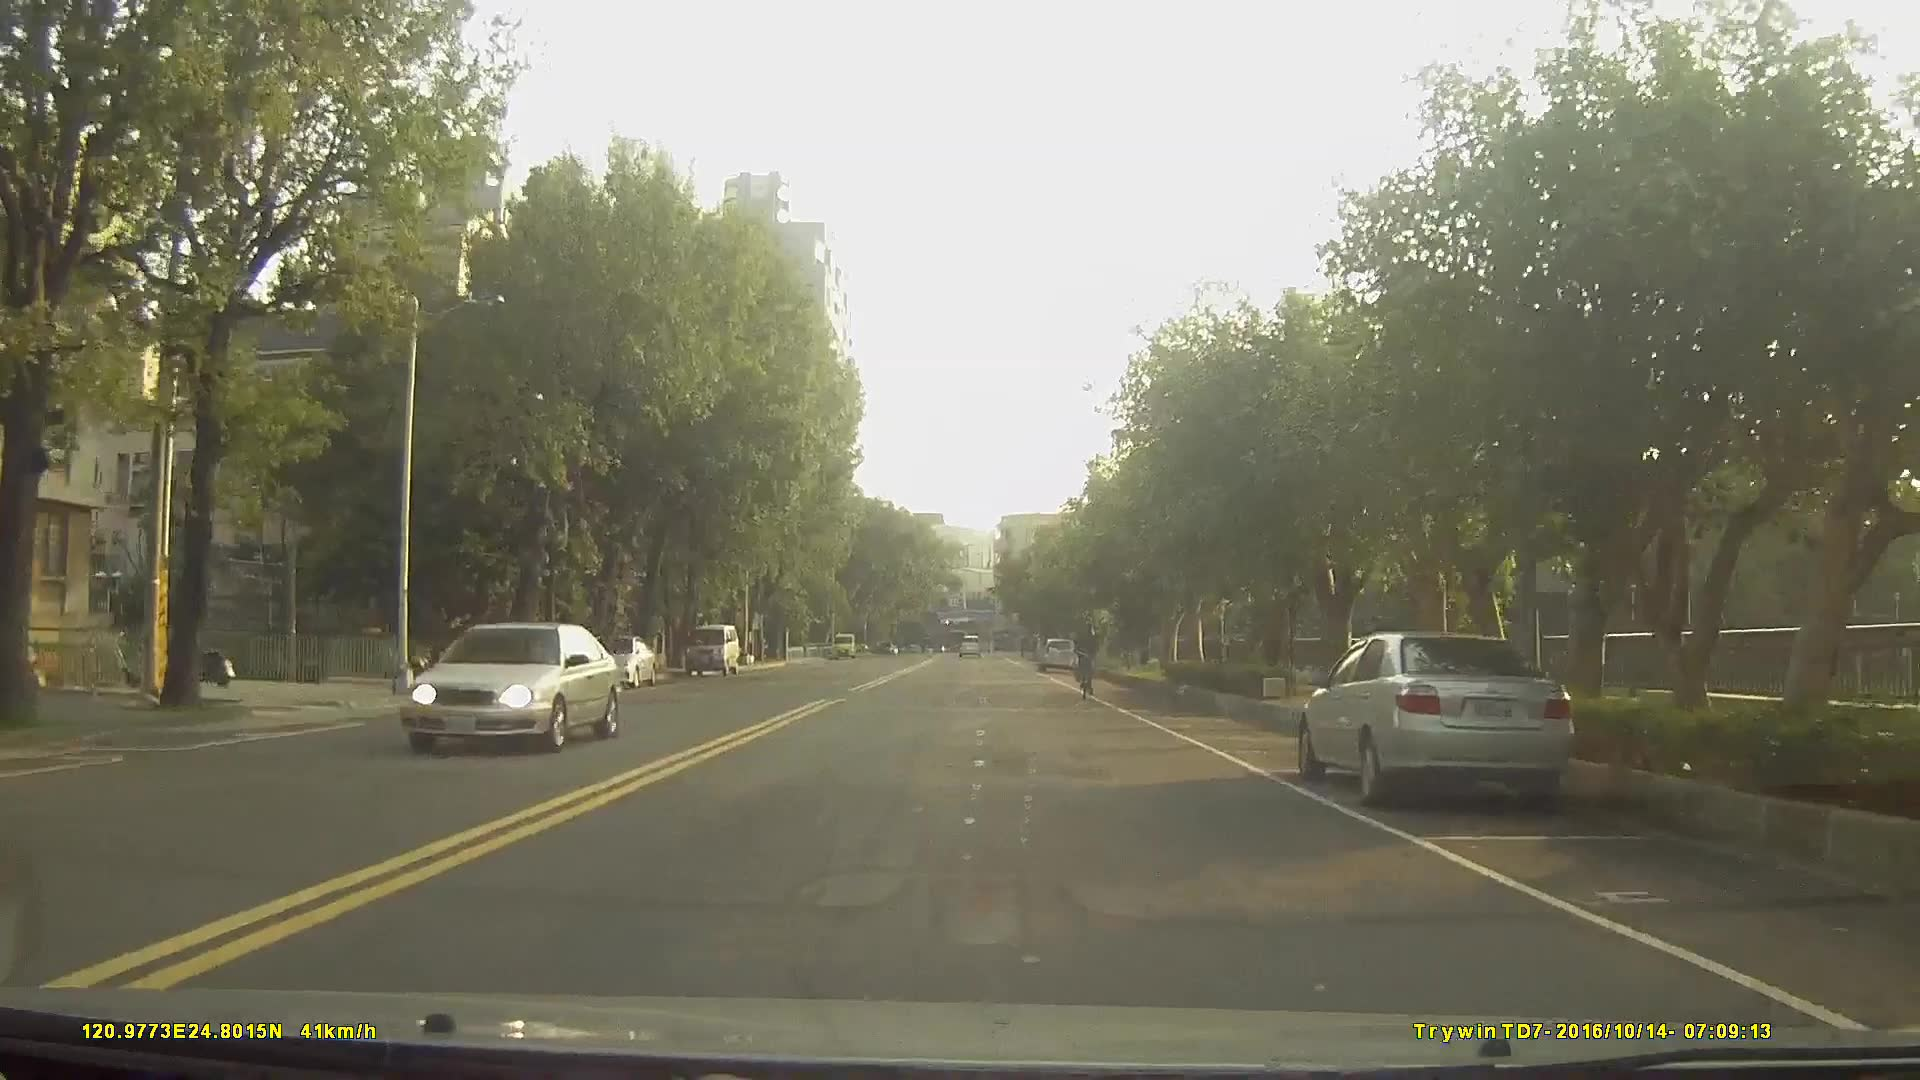rider: (1074, 617, 1101, 701)
vehicle: (1294, 627, 1580, 807), (396, 620, 622, 755), (589, 634, 657, 689), (683, 622, 740, 675), (1037, 633, 1079, 671), (958, 630, 983, 656)
